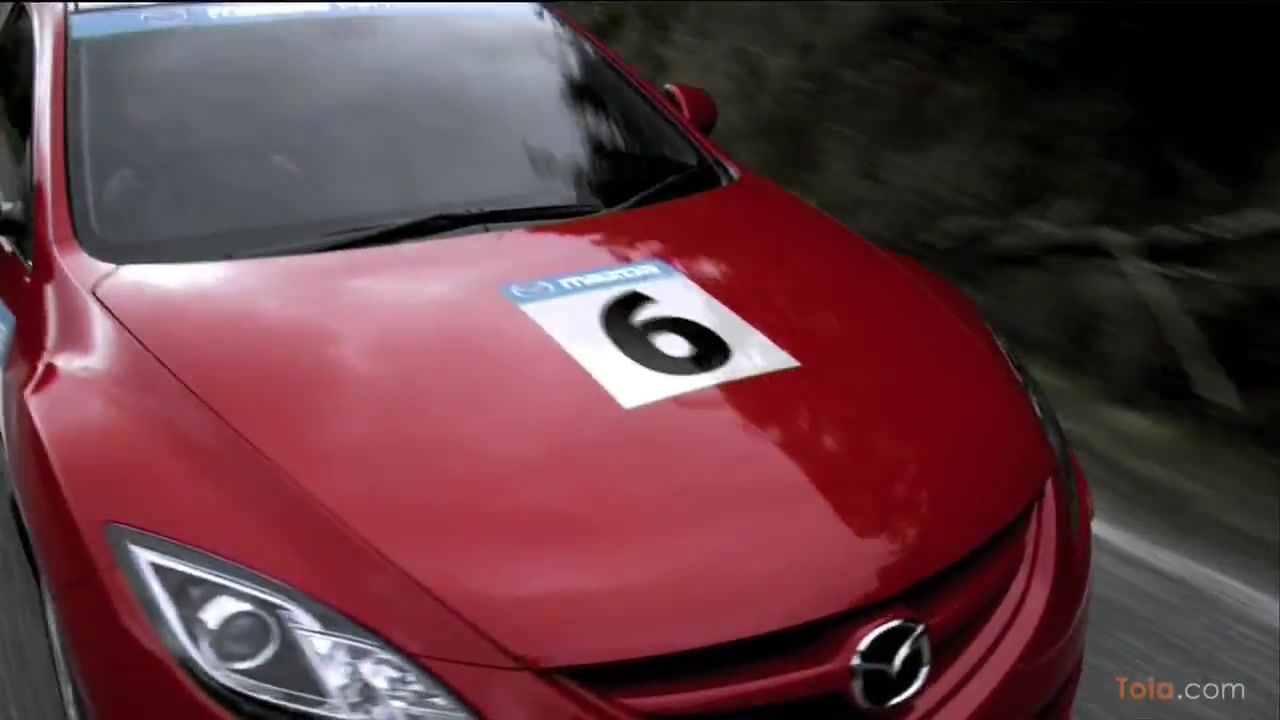car: (1, 3, 1097, 720)
